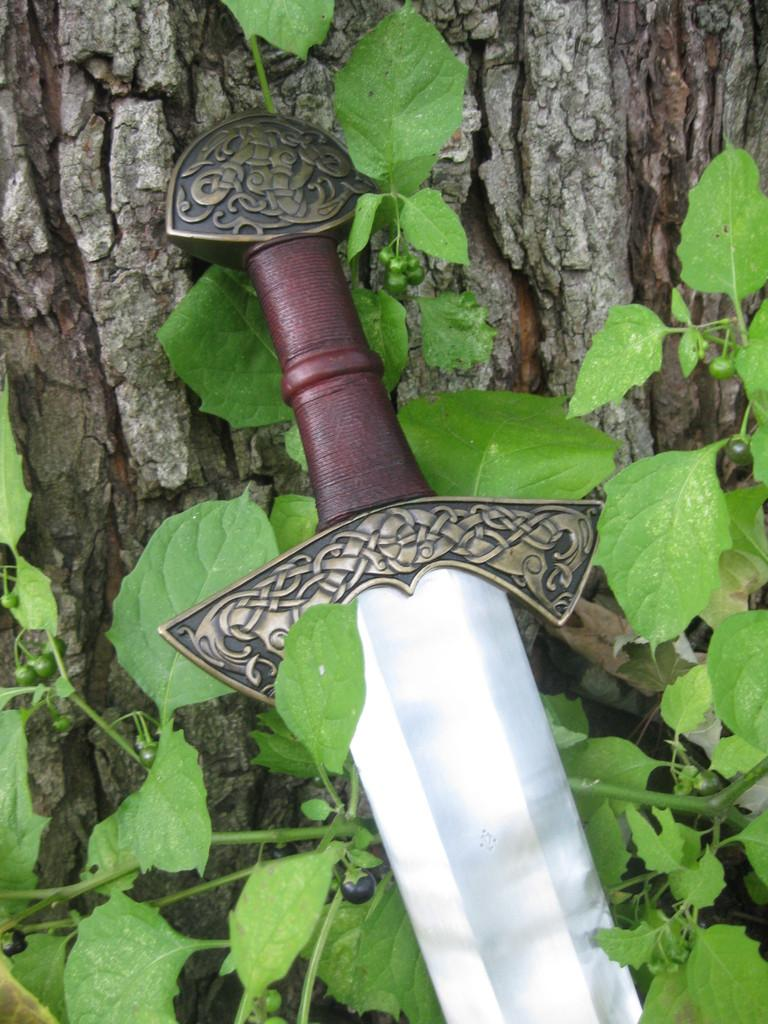Sword: (157, 115, 643, 1023)
